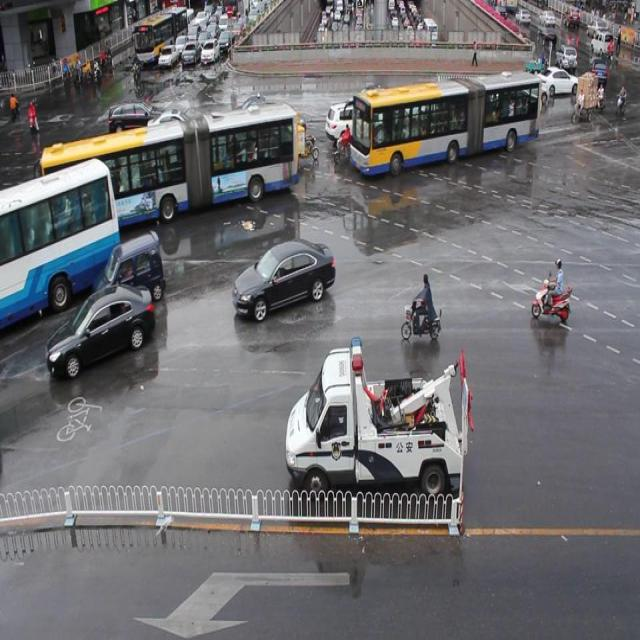bus: (286, 333, 474, 494)
car: (46, 284, 154, 374), (235, 240, 334, 313), (95, 234, 165, 302), (246, 104, 303, 148), (110, 102, 166, 146), (146, 107, 202, 149), (325, 102, 378, 142), (485, 77, 537, 114), (435, 85, 478, 126), (503, 68, 548, 106), (351, 83, 396, 121), (253, 114, 290, 160), (235, 95, 284, 128), (472, 74, 518, 109), (342, 92, 385, 128), (398, 86, 441, 120), (534, 66, 576, 96)
van: (41, 108, 298, 224), (1, 163, 122, 324), (352, 75, 540, 173)
